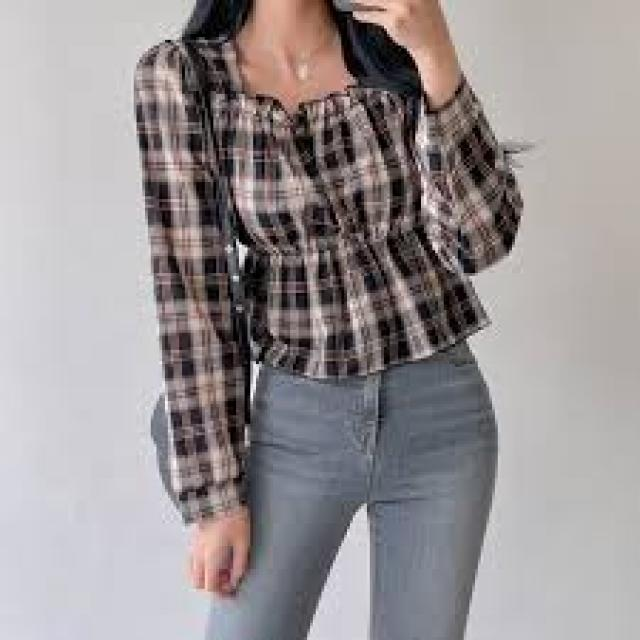plaid: (105, 18, 519, 377)
